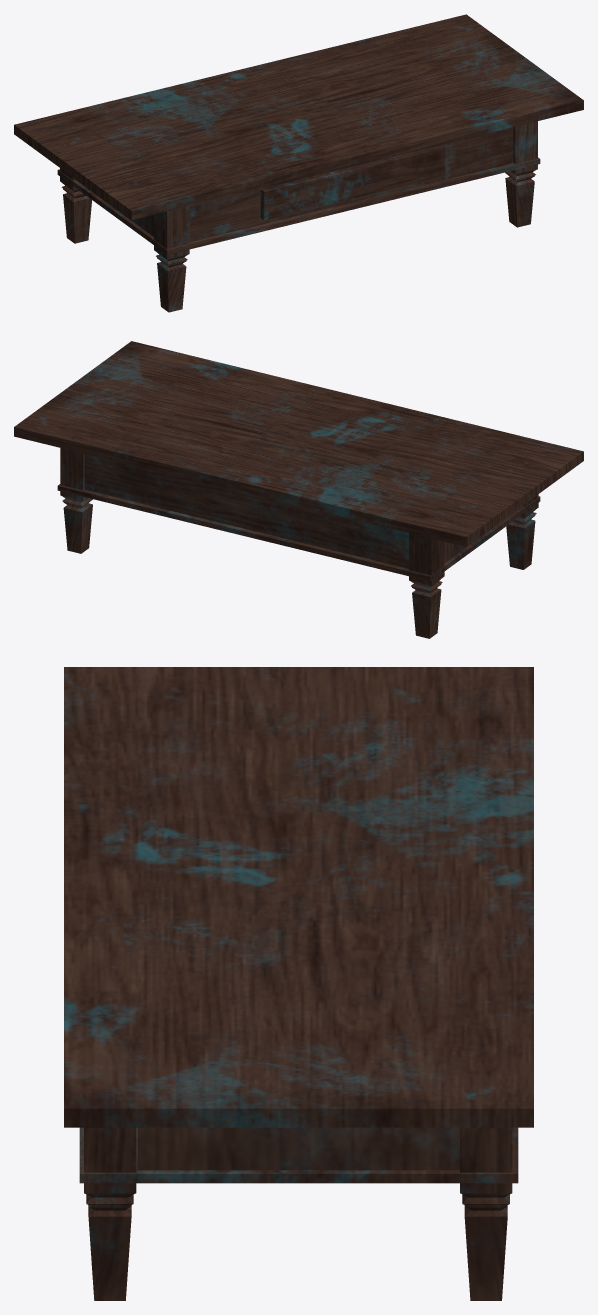
File: mesa_centro.obj
3 renders of one model, top to bottom at view 1: azimuth 30°, elevation 25°; view 2: azimuth 150°, elevation 25°; view 3: azimuth 270°, elevation 25°, orthographic. The views are drawn at different scales.
Parts seen in each view (by area): view 1: Plano_001; view 2: Plano_001; view 3: Plano_001.
Part boxes in pixels (<box>): Plano_001: <box>14,14,583,312</box>; Plano_001: <box>14,341,583,638</box>; Plano_001: <box>64,667,533,1300</box>.
Size of the model in its own units: 200 by 49.96 by 90.
1 material, 1 textured.
